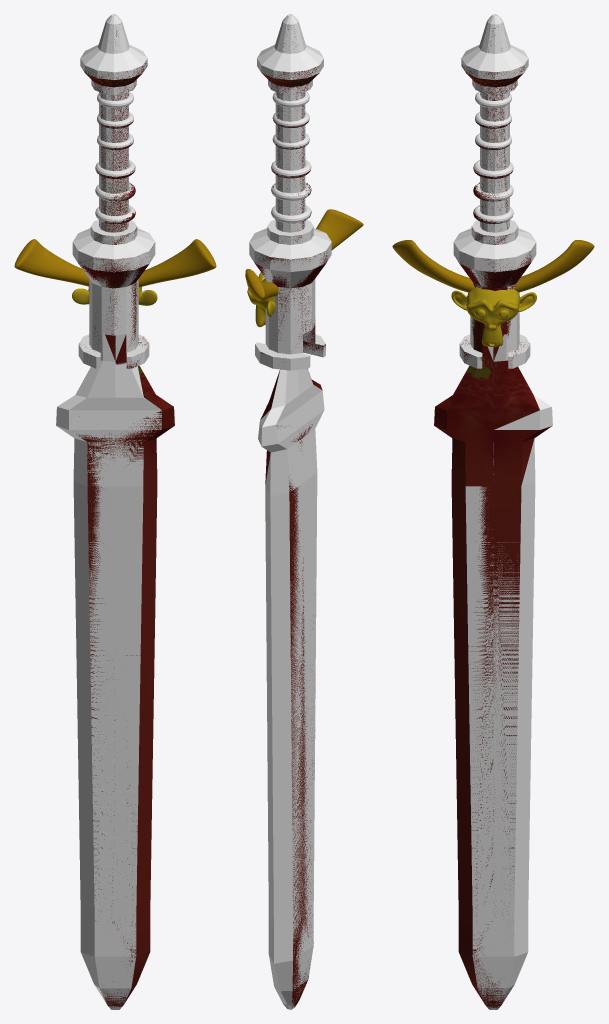
Rendered from ESPADA CABALLERO.fbx.
3 renders of one model, left to right at view 1: azimuth 90°, elevation 25°; view 2: azimuth 150°, elevation 25°; view 3: azimuth 270°, elevation 25°, orthographic.
Parts seen in each view (by area): view 1: Cube, Torus.006, Cylinder, Cube.001, Suzanne; view 2: Cube, Cylinder, Torus.006, Cube.001, Suzanne, Torus.005, Torus.004, Torus.003; view 3: Cube, Torus.006, Cylinder, Cube.001, Suzanne.
Boxes of the visible parts, x1=… form: Cube: x1=56, y1=334, x2=161, y2=1009; Torus.006: x1=76, y1=24, x2=174, y2=1008; Cylinder: x1=72, y1=14, x2=155, y2=368; Cube.001: x1=14, y1=239, x2=216, y2=287; Suzanne: x1=72, y1=287, x2=157, y2=305; Cube: x1=258, y1=368, x2=324, y2=1009; Cylinder: x1=249, y1=14, x2=331, y2=370; Torus.006: x1=255, y1=25, x2=327, y2=1007; Cube.001: x1=245, y1=209, x2=363, y2=301; Suzanne: x1=247, y1=272, x2=275, y2=327; Torus.005: x1=271, y1=204, x2=310, y2=223; Torus.004: x1=271, y1=182, x2=310, y2=200; Torus.003: x1=271, y1=159, x2=311, y2=177; Cube: x1=465, y1=334, x2=552, y2=1009; Torus.006: x1=434, y1=28, x2=551, y2=1008; Cylinder: x1=453, y1=14, x2=536, y2=368; Cube.001: x1=392, y1=240, x2=594, y2=292; Suzanne: x1=451, y1=287, x2=536, y2=346.
Bounding box in the file's own units: 64.05 × 840 × 155.
Materials: 3 (1 with a texture image).
